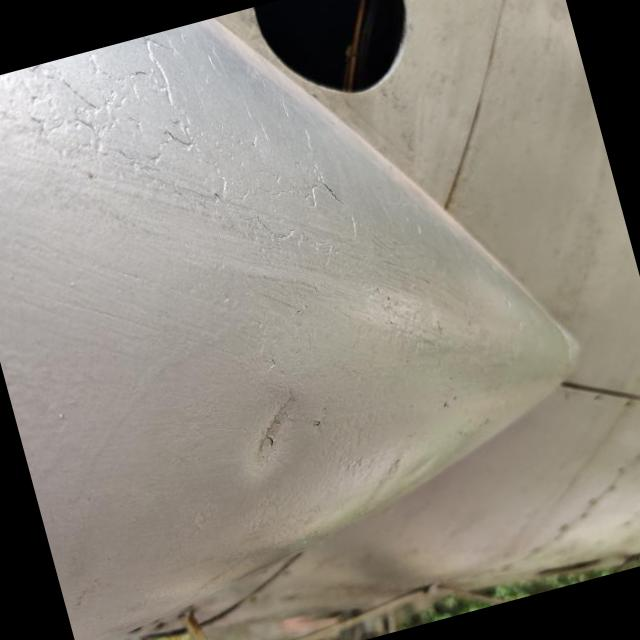Dent: (212, 358, 325, 489)
